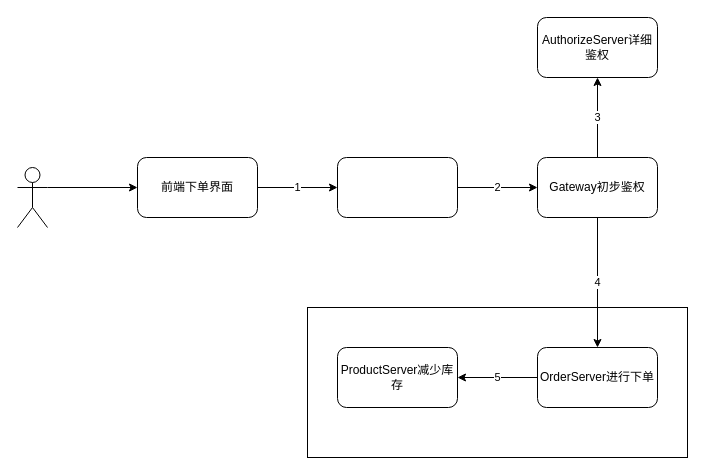
Some shapes in this 705 by 475 pixel diagram are drawn without their labels. Each missing label, with the box of its shape:
Actor: (16, 166, 48, 228)
nginx: (336, 156, 458, 218)
Seata事务管理: (306, 306, 688, 458)
